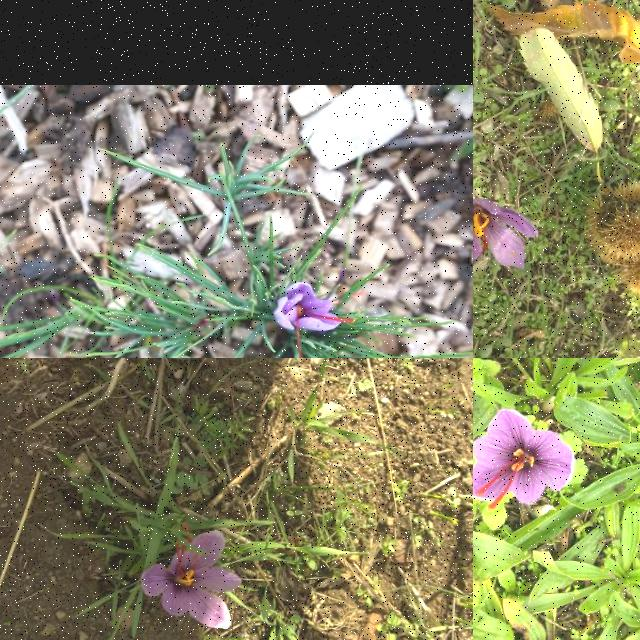flower: (140, 524, 242, 630), (473, 409, 575, 511), (274, 282, 364, 358), (473, 198, 540, 276)
